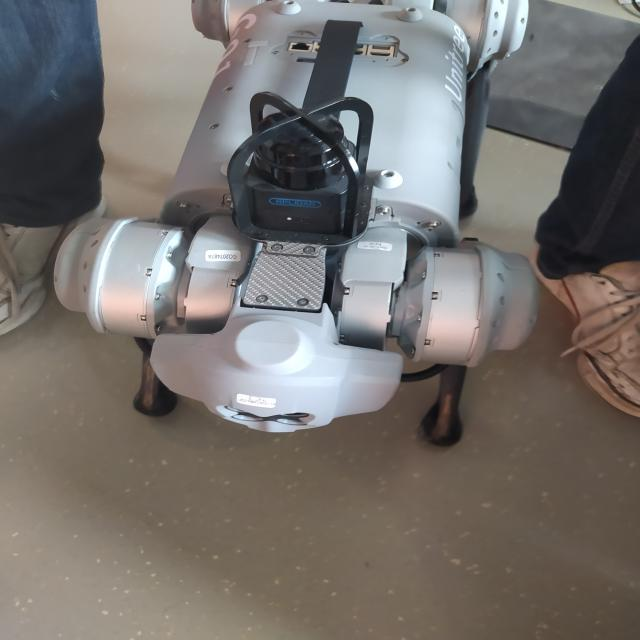unitree-go1-robot: (52, 0, 554, 462)
